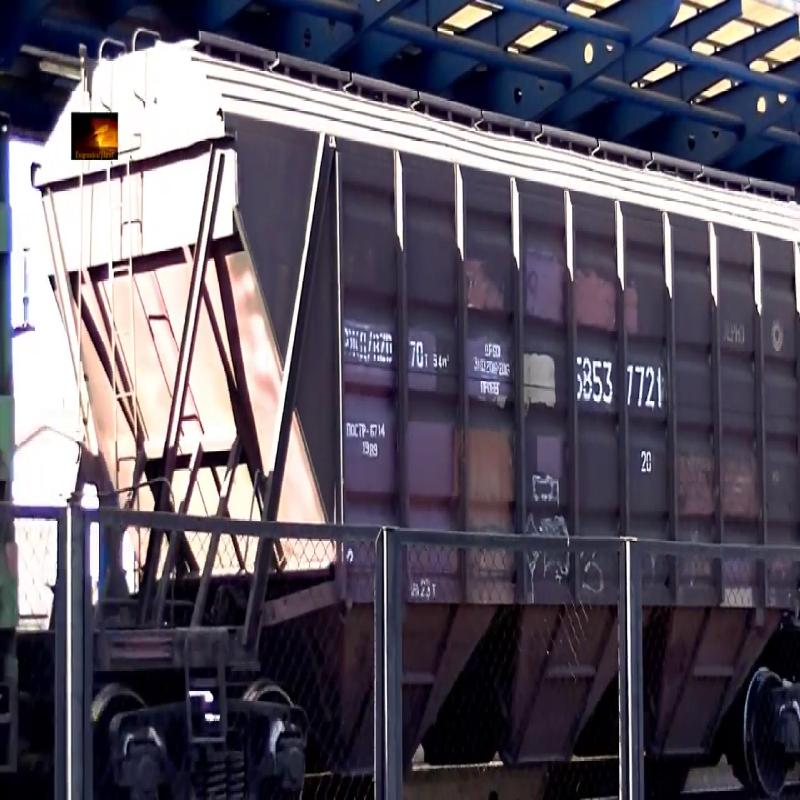train: (48, 8, 800, 756)
